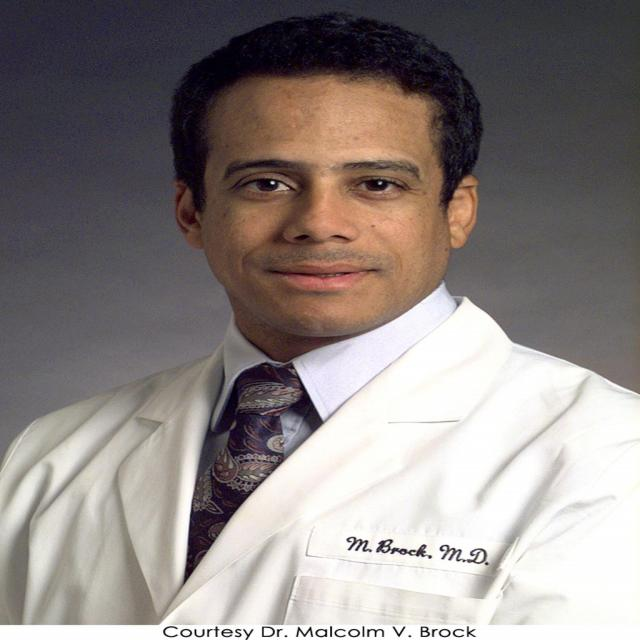nomask: (195, 78, 445, 334)
